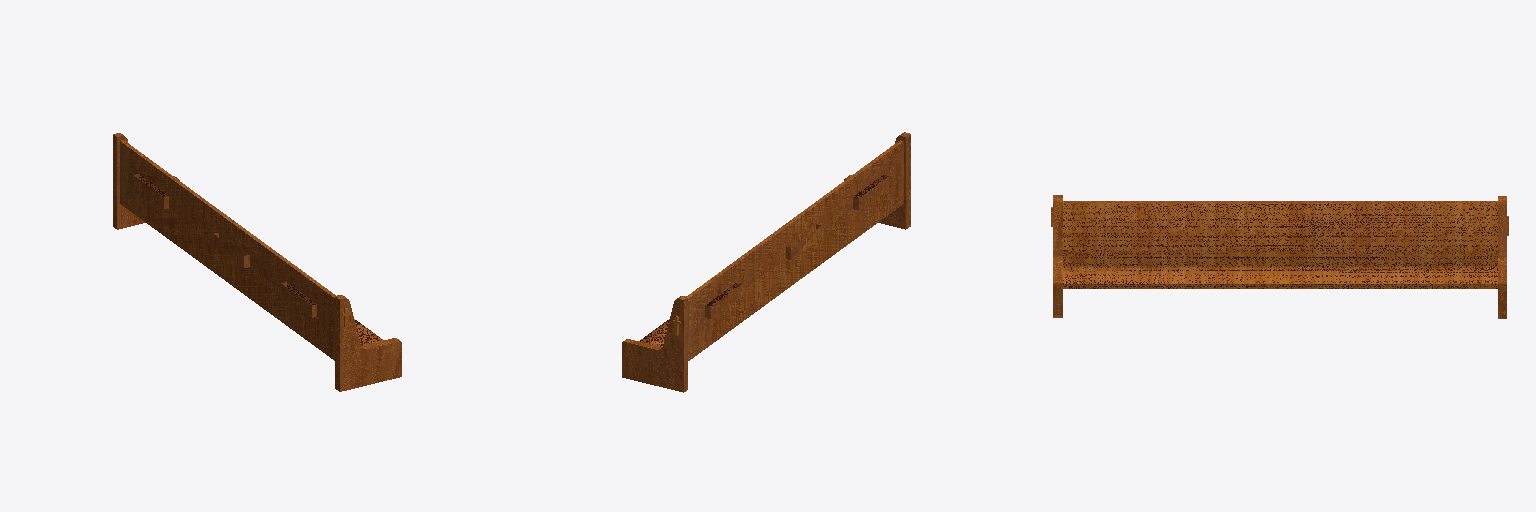
3 views of the same model, side by side, from view 1: azimuth 30°, elevation 25°; view 2: azimuth 150°, elevation 25°; view 3: azimuth 270°, elevation 25° (orthographic).
Parts seen in each view (by area): view 1: mesh1.002_mesh1-geometry; view 2: mesh1.002_mesh1-geometry; view 3: mesh1.002_mesh1-geometry.
Boxes of the visible parts, x1,y1,x2,y2 form: mesh1.002_mesh1-geometry: [113, 133, 401, 391]; mesh1.002_mesh1-geometry: [622, 132, 910, 392]; mesh1.002_mesh1-geometry: [1053, 195, 1506, 318].
Size of the model in its own units: 0.1596 by 0.216 by 0.9633.
Materials: 3 (2 with a texture image).